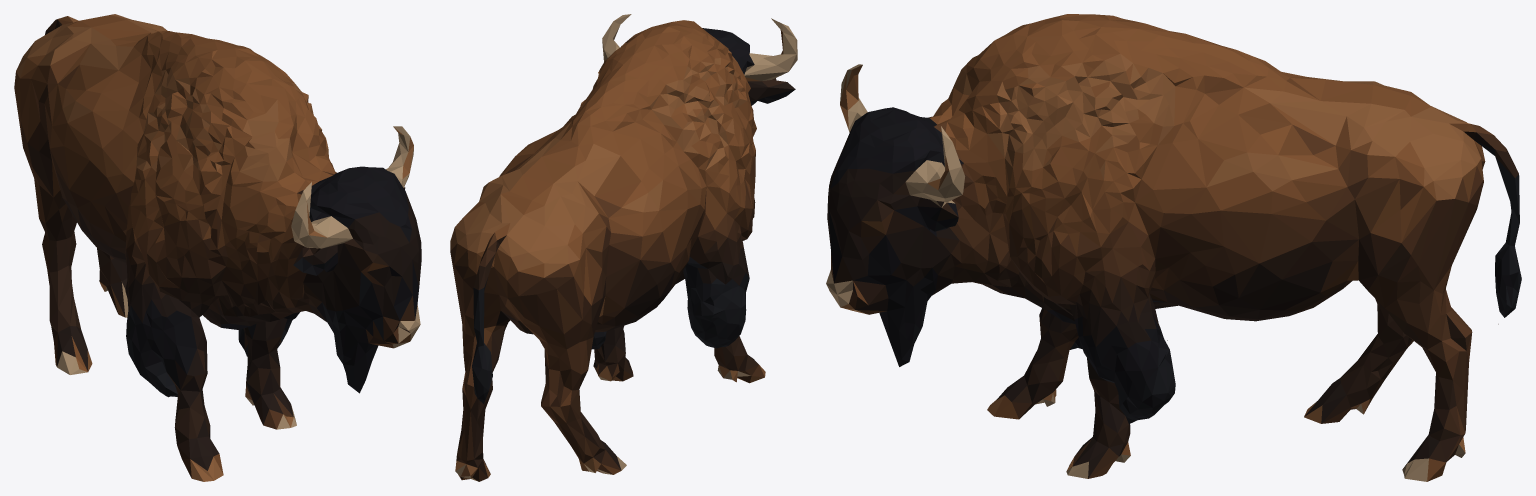
The model's file is bison_bison.glb.
3 renders of one model, left to right at view 1: azimuth 30°, elevation 25°; view 2: azimuth 150°, elevation 25°; view 3: azimuth 270°, elevation 25°, orthographic. The views are drawn at different scales.
Visible parts, largest first — view 1: lod0; view 2: lod0; view 3: lod0.
Part boxes in pixels (x1,y1,x2,y2): lod0: (14, 14, 421, 481); lod0: (450, 14, 797, 481); lod0: (826, 14, 1521, 481).
Size of what is drawn, in the model's own units: 0.8183 by 1.36 by 2.01.
